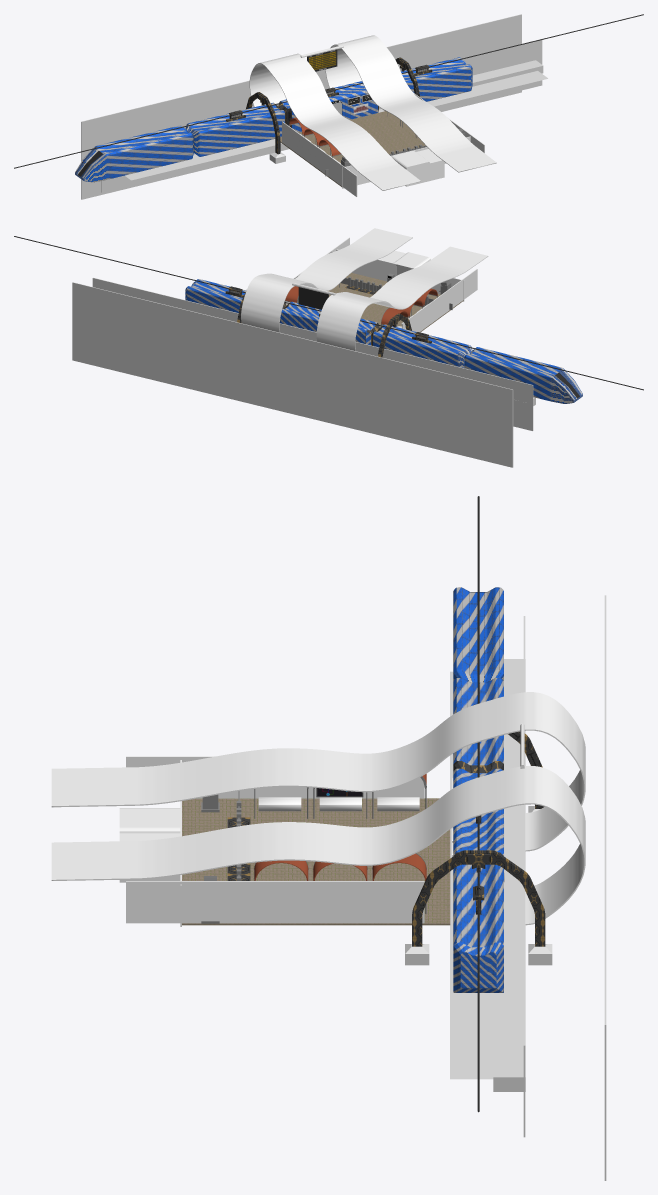
Rendered from TrainStationBlockOut6.fbx.
The picture shows the model from 3 angles, top to bottom: view 1: azimuth 30°, elevation 25°; view 2: azimuth 150°, elevation 25°; view 3: azimuth 270°, elevation 25°; orthographic projection. The views are drawn at different scales.
Parts seen in each view (by area): view 1: Cube.069, Cube.003, Cube.005, Cube.046, Cube.047, Cube.053, Plane, Cube.095, Cube, Cube.055, Cube.034, Cube.059 (+6 smaller); view 2: Cube.069, Cube.003, Cube.005, Cube.047, Cube.046, Cube.053, Cube.055, Cube.034, Cube.095, Cube, Cylinder.003, Cube.004 (+3 smaller); view 3: Cube.005, Cube.003, Cube.054, Cube, Cube.001, Cube.095, Plane, Cube.046, Cube.053, Plane.008, Cube.055, Cube.059 (+5 smaller).
Boxes of the visible parts, x1,y1,x2,y2 form: Cube.069: (81,14,521,199); Cube.003: (249,53,421,190); Cube.005: (325,35,496,172); Cube.046: (75,125,193,182); Cube.047: (101,40,542,192); Cube.053: (185,102,286,156); Plane: (125,71,547,180); Cube.095: (384,57,472,110); Cube: (280,111,425,186); Cube.055: (282,121,357,196); Cube.034: (278,81,378,132); Cube.059: (392,149,444,186); Cube.069: (72,282,513,467); Cube.003: (316,246,488,351); Cube.005: (241,228,412,332); Cube.047: (92,277,533,430); Cube.046: (464,347,582,403); Cube.053: (371,324,472,367); Cube.055: (402,269,477,332); Cube.034: (279,301,379,345); Cube.095: (185,279,286,312); Cube: (286,273,463,332); Cylinder.003: (14,236,643,390); Cube.004: (336,249,464,301); Cube.005: (51,766,585,925); Cube.003: (51,692,585,851); Cube.054: (126,881,424,923); Cube: (182,798,450,925); Cube.001: (493,659,525,1091); Cube.095: (453,864,503,992); Plane: (450,671,493,1079); Cube.046: (453,587,503,682); Cube.053: (453,678,503,772); Plane.008: (412,851,545,946); Cube.055: (126,756,424,798); Cube.059: (119,808,180,882).
Size of the model in its own units: 8484 by 1426 by 3236.
